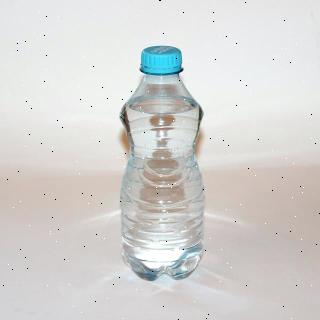Plastic-bottle: (107, 43, 213, 285)
